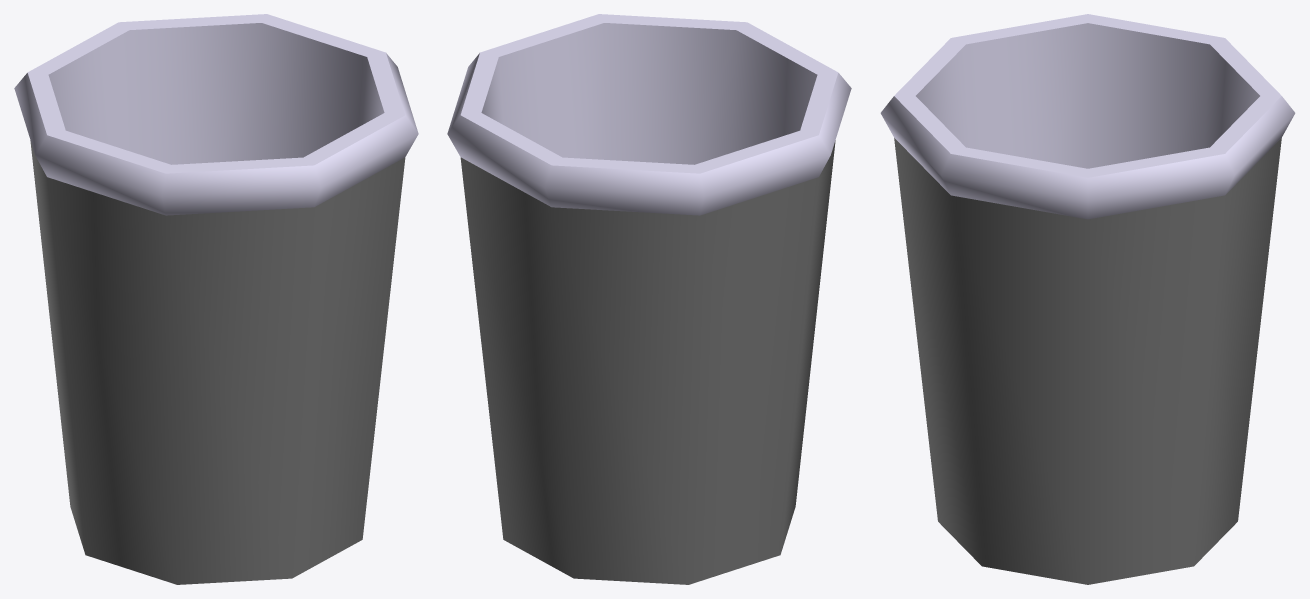
Rendered from bin_empty.fbx.
3 renders of one model, left to right at view 1: azimuth 30°, elevation 25°; view 2: azimuth 150°, elevation 25°; view 3: azimuth 270°, elevation 25°, orthographic.
Visible parts, largest first — view 1: bin_empty; view 2: bin_empty; view 3: bin_empty.
Boxes of the visible parts, bbox=[...] form: bin_empty: bbox=[14, 14, 418, 584]; bin_empty: bbox=[447, 14, 851, 584]; bin_empty: bbox=[880, 14, 1295, 584].
Size of the model in its own units: 25.74 by 29.13 by 25.74.
